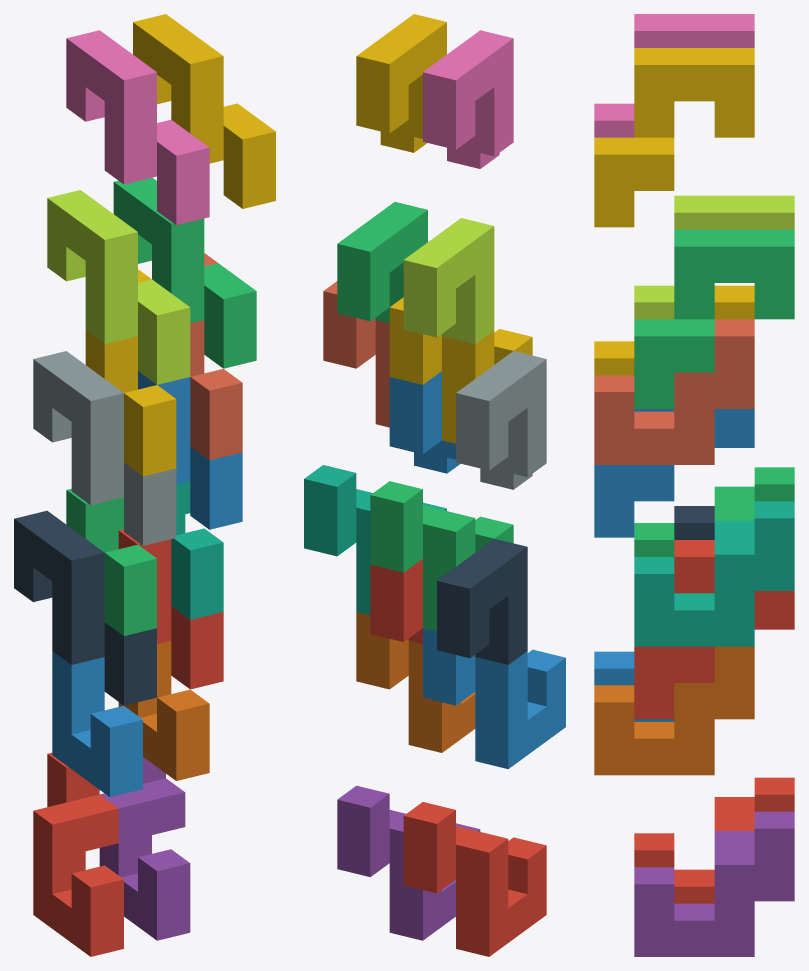
The model's file is tiling.obj.
The picture shows the model from 3 angles, left to right: view 1: azimuth 30°, elevation 25°; view 2: azimuth 150°, elevation 25°; view 3: azimuth 270°, elevation 25°; orthographic projection. The views are drawn at different scales.
Visible parts, largest first — view 1: copy_2_domain_4, copy_2_domain_3, copy_2_domain_2, copy_2_domain_1, copy_1_domain_1, copy_2_domain_8, copy_2_domain_7, copy_1_domain_5, copy_1_domain_2, copy_1_domain_3, copy_1_domain_4, copy_1_domain_6 (+4 smaller); view 2: copy_1_domain_1, copy_1_domain_2, copy_2_domain_4, copy_2_domain_2, copy_2_domain_3, copy_2_domain_1, copy_1_domain_3, copy_1_domain_5, copy_2_domain_8, copy_2_domain_7, copy_1_domain_4, copy_1_domain_6 (+4 smaller); view 3: copy_2_domain_7, copy_2_domain_8, copy_1_domain_5, copy_1_domain_7, copy_1_domain_8, copy_1_domain_6, copy_2_domain_5, copy_2_domain_6, copy_1_domain_1, copy_2_domain_3, copy_2_domain_4, copy_1_domain_3 (+3 smaller).
Part boxes in pixels (x1,y1,x2,y2): copy_2_domain_4: [66, 30, 209, 225]; copy_2_domain_3: [47, 190, 190, 384]; copy_2_domain_2: [33, 351, 176, 545]; copy_2_domain_1: [14, 510, 156, 705]; copy_1_domain_1: [33, 752, 123, 956]; copy_2_domain_8: [133, 14, 275, 208]; copy_2_domain_7: [113, 177, 256, 368]; copy_1_domain_5: [99, 757, 190, 940]; copy_1_domain_2: [52, 651, 142, 797]; copy_1_domain_3: [66, 488, 156, 635]; copy_1_domain_4: [85, 269, 176, 476]; copy_1_domain_6: [118, 641, 209, 780]; copy_1_domain_1: [403, 802, 546, 956]; copy_1_domain_2: [423, 628, 565, 769]; copy_2_domain_4: [423, 30, 513, 168]; copy_2_domain_2: [456, 351, 546, 489]; copy_2_domain_3: [403, 218, 494, 343]; copy_2_domain_1: [437, 538, 527, 664]; copy_1_domain_3: [370, 481, 513, 631]; copy_1_domain_5: [337, 785, 480, 940]; copy_2_domain_8: [356, 14, 446, 152]; copy_2_domain_7: [337, 202, 427, 323]; copy_1_domain_4: [389, 297, 532, 443]; copy_1_domain_6: [356, 612, 475, 752]; copy_2_domain_7: [634, 229, 794, 408]; copy_2_domain_8: [594, 48, 754, 227]; copy_1_domain_5: [634, 811, 794, 956]; copy_1_domain_7: [634, 501, 794, 646]; copy_1_domain_8: [594, 319, 754, 464]; copy_1_domain_6: [594, 646, 754, 775]; copy_2_domain_5: [634, 540, 794, 719]; copy_2_domain_6: [594, 409, 754, 537]; copy_1_domain_1: [634, 777, 794, 903]; copy_2_domain_3: [634, 195, 794, 319]; copy_2_domain_4: [594, 14, 754, 137]; copy_1_domain_3: [634, 467, 794, 556].
Size of the model in its own units: 5 by 25 by 5.
